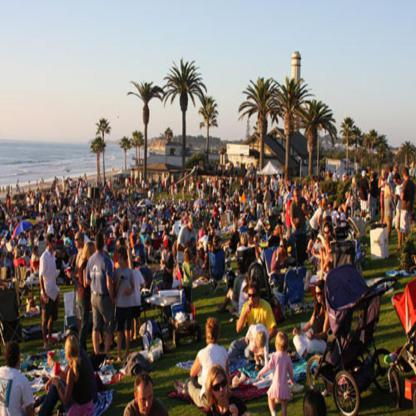face: (138, 384, 154, 415), (213, 375, 228, 402), (316, 287, 324, 304), (250, 290, 258, 305), (89, 247, 96, 261), (75, 234, 81, 250), (118, 255, 124, 268), (294, 192, 301, 203), (324, 228, 330, 239), (280, 242, 285, 253), (52, 239, 57, 250), (118, 241, 123, 251), (164, 239, 169, 249), (322, 202, 327, 210), (382, 170, 387, 178), (71, 230, 76, 238), (303, 204, 307, 213), (395, 180, 400, 187), (189, 222, 194, 229), (166, 246, 170, 254), (329, 205, 332, 213), (395, 167, 399, 173), (346, 191, 349, 198), (133, 216, 136, 222), (37, 249, 40, 254)
